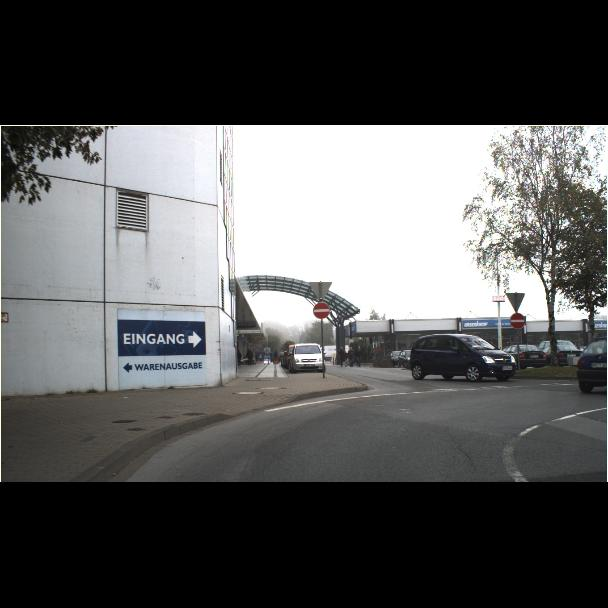no entry: (312, 302, 526, 330)
